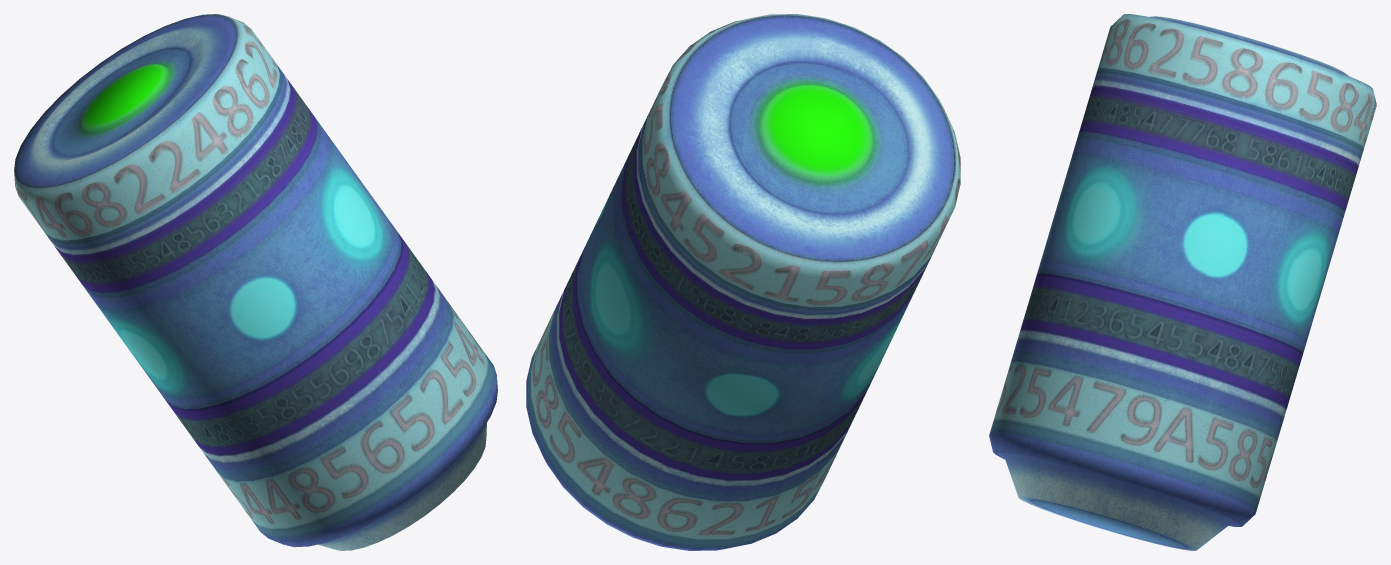
File: TimeBomb.obj
The picture shows the model from 3 angles, left to right: view 1: azimuth 30°, elevation 25°; view 2: azimuth 150°, elevation 25°; view 3: azimuth 270°, elevation 25°; orthographic projection. The views are drawn at different scales.
Parts seen in each view (by area): view 1: Cylinder.001_Cylinder.002; view 2: Cylinder.001_Cylinder.002; view 3: Cylinder.001_Cylinder.002.
Boxes of the visible parts, <box> form: Cylinder.001_Cylinder.002: <box>14,14,497,550</box>; Cylinder.001_Cylinder.002: <box>526,14,960,550</box>; Cylinder.001_Cylinder.002: <box>989,14,1376,550</box>.
Bounding box in the file's own units: 3.35 × 4.02 × 2.91.
Materials: 1 (1 with a texture image).
